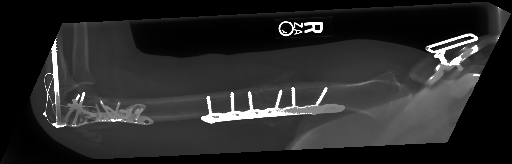implant: (39, 73, 157, 131), (199, 83, 347, 126), (421, 25, 481, 77)
